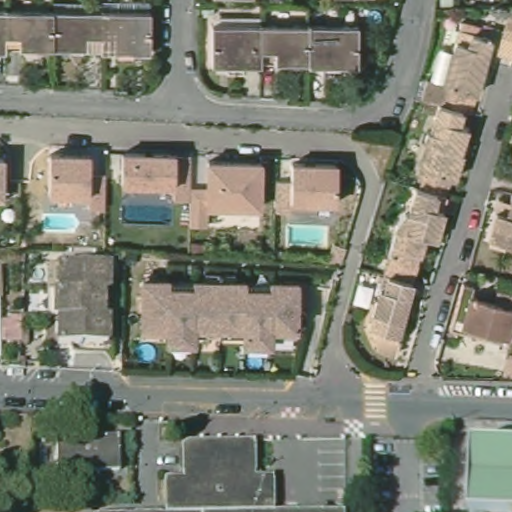pool: (282, 223, 332, 252), (118, 202, 172, 226), (37, 211, 82, 232), (134, 341, 158, 364), (246, 354, 270, 373)
